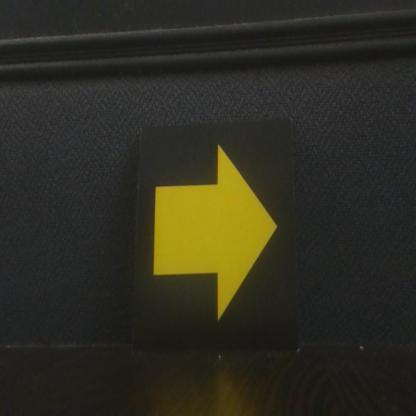right: (140, 127, 296, 351)
